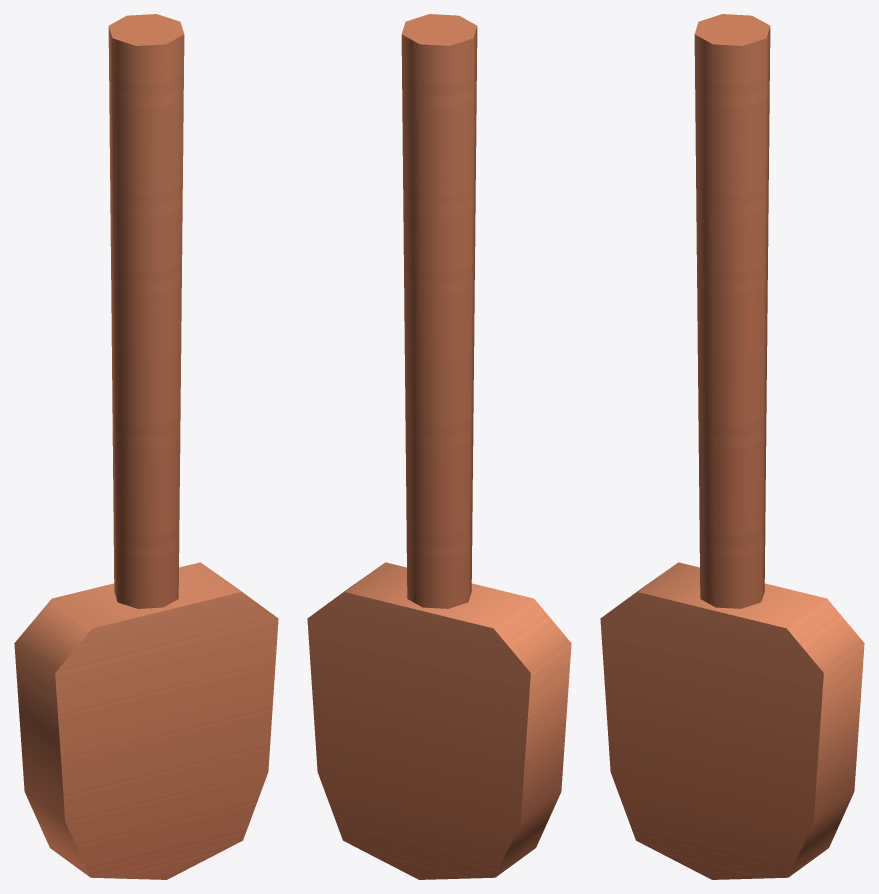
File: tool-paddle.glb
3 renders of one model, left to right at view 1: azimuth 30°, elevation 25°; view 2: azimuth 150°, elevation 25°; view 3: azimuth 330°, elevation 25°, orthographic.
Visible parts, largest first — view 1: tool-paddle; view 2: tool-paddle; view 3: tool-paddle.
Part boxes in pixels (bbox=[...]): tool-paddle: bbox=[14, 14, 278, 879]; tool-paddle: bbox=[307, 14, 571, 879]; tool-paddle: bbox=[600, 14, 864, 879].
Size of the model in its own units: 0.6578 by 2.35 by 0.2075.
1 material, 1 textured.
